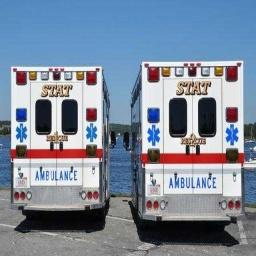ambulance: (130, 61, 243, 227), (11, 66, 109, 216)
